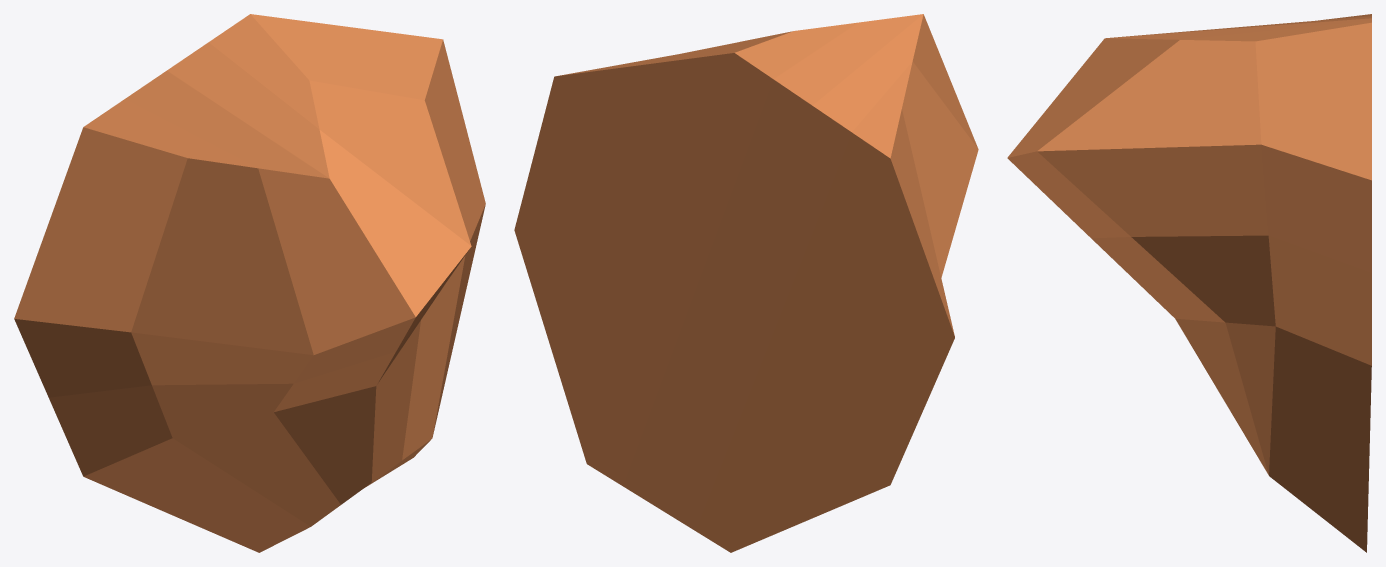
File: Piedras1.fbx
The picture shows the model from 3 angles, left to right: view 1: azimuth 30°, elevation 25°; view 2: azimuth 150°, elevation 25°; view 3: azimuth 270°, elevation 25°; orthographic projection. The views are drawn at different scales.
Parts seen in each view (by area): view 1: Cylinder.001; view 2: Cylinder.001; view 3: Cylinder.001.
Boxes of the visible parts, x1,y1,x2,y2 form: Cylinder.001: (14,14,485,552); Cylinder.001: (514,14,978,552); Cylinder.001: (1007,14,1371,552).
Size of the model in its own units: 240 by 262 by 170.
